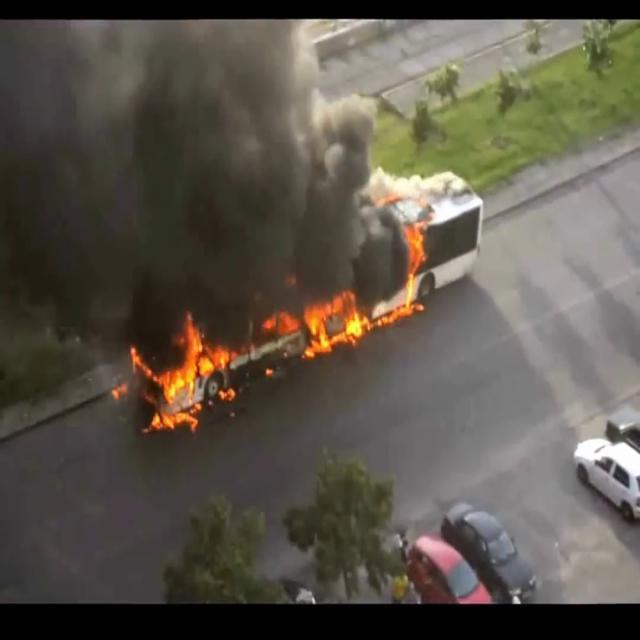Fire: (130, 314, 232, 423), (297, 286, 373, 354), (400, 216, 428, 313)
Smoke: (0, 19, 396, 324)
